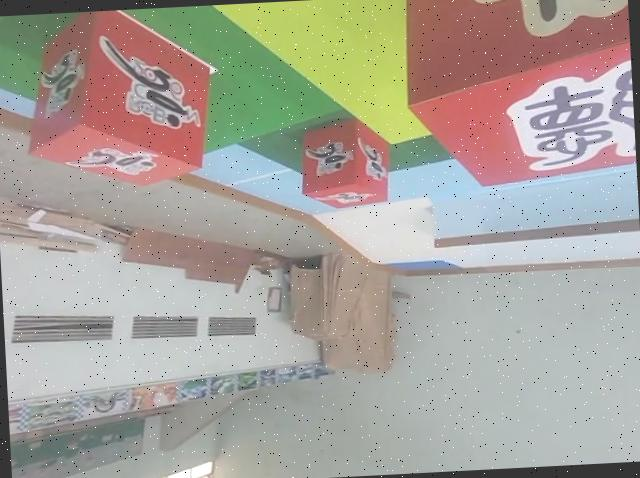R1: (20, 6, 220, 197), (297, 109, 395, 215)
R2 Fake: (396, 0, 637, 194)
